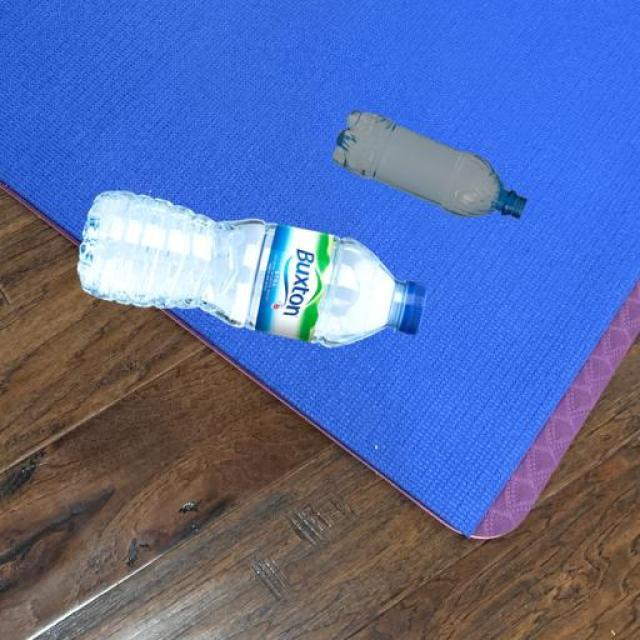bottle: (75, 188, 426, 348), (332, 107, 526, 220)
